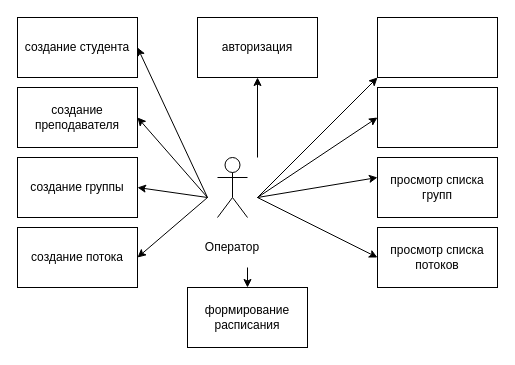
This 515x365 diagram has some shape labels left out. Here are the shapes that lost their labels. From the top down, the box of each, then its label:
(376, 16, 498, 78): просмотр списка студентов
(376, 86, 498, 148): просмотр списка преподавателей
